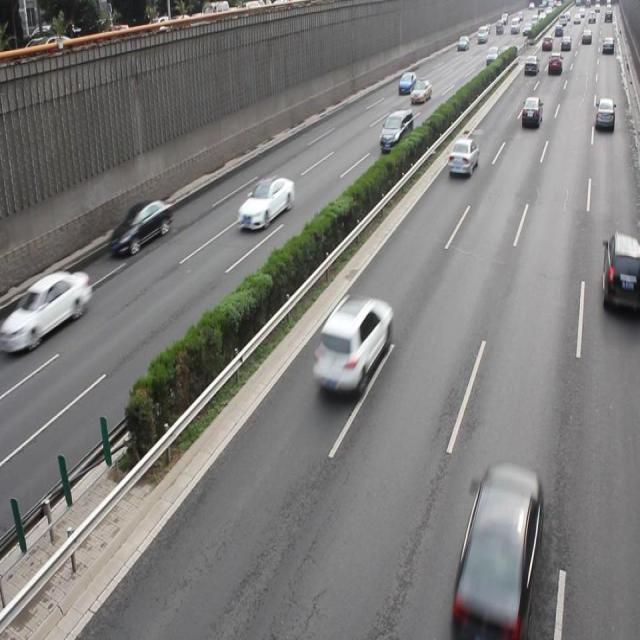car: (453, 460, 542, 640), (311, 293, 392, 393), (11, 269, 92, 351), (110, 199, 173, 256), (601, 230, 640, 312), (237, 175, 294, 229), (446, 136, 477, 177), (520, 96, 541, 128), (594, 97, 613, 129)
truck: (379, 110, 412, 151)
